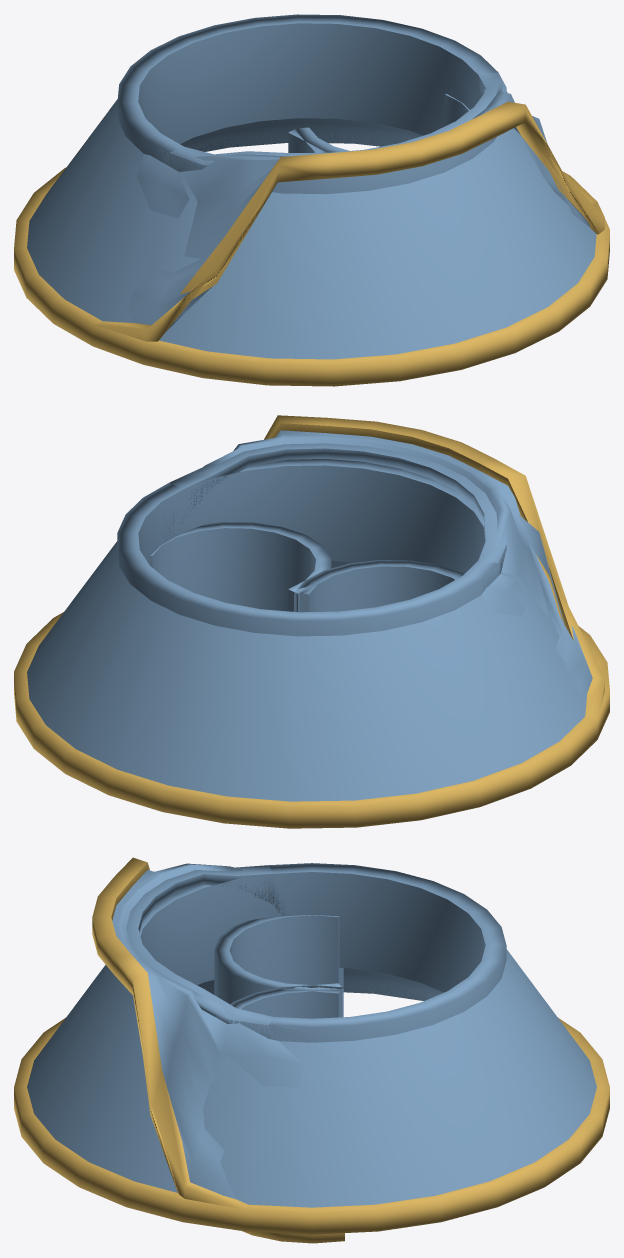
The model's file is denim_skirt.glb.
3 views of the same model, one above another, from view 1: azimuth 30°, elevation 25°; view 2: azimuth 150°, elevation 25°; view 3: azimuth 270°, elevation 25° (orthographic).
Parts seen in each view (by area): view 1: denim_skirt_Body, denim_skirt_Body_sit, denim_skirt_LegR_sit; view 2: denim_skirt_Body, denim_skirt_Body_sit, denim_skirt_LegR_sit, denim_skirt_LegL_sit; view 3: denim_skirt_Body, denim_skirt_Body_sit, denim_skirt_LegL_sit, denim_skirt_LegR_sit.
Boxes of the visible parts, left/top/right/bottom form: denim_skirt_Body: left=14, top=14, right=609, bottom=386; denim_skirt_Body_sit: left=93, top=48, right=604, bottom=341; denim_skirt_LegR_sit: left=294, top=93, right=469, bottom=152; denim_skirt_Body: left=14, top=458, right=609, bottom=828; denim_skirt_Body_sit: left=145, top=415, right=604, bottom=718; denim_skirt_LegR_sit: left=150, top=521, right=331, bottom=612; denim_skirt_LegL_sit: left=294, top=560, right=463, bottom=612; denim_skirt_Body: left=14, top=863, right=609, bottom=1234; denim_skirt_Body_sit: left=92, top=857, right=443, bottom=1209; denim_skirt_LegL_sit: left=214, top=915, right=343, bottom=1017; denim_skirt_LegR_sit: left=230, top=985, right=344, bottom=1243.
Size of the model in its own units: 0.628 by 0.2847 by 0.628.
